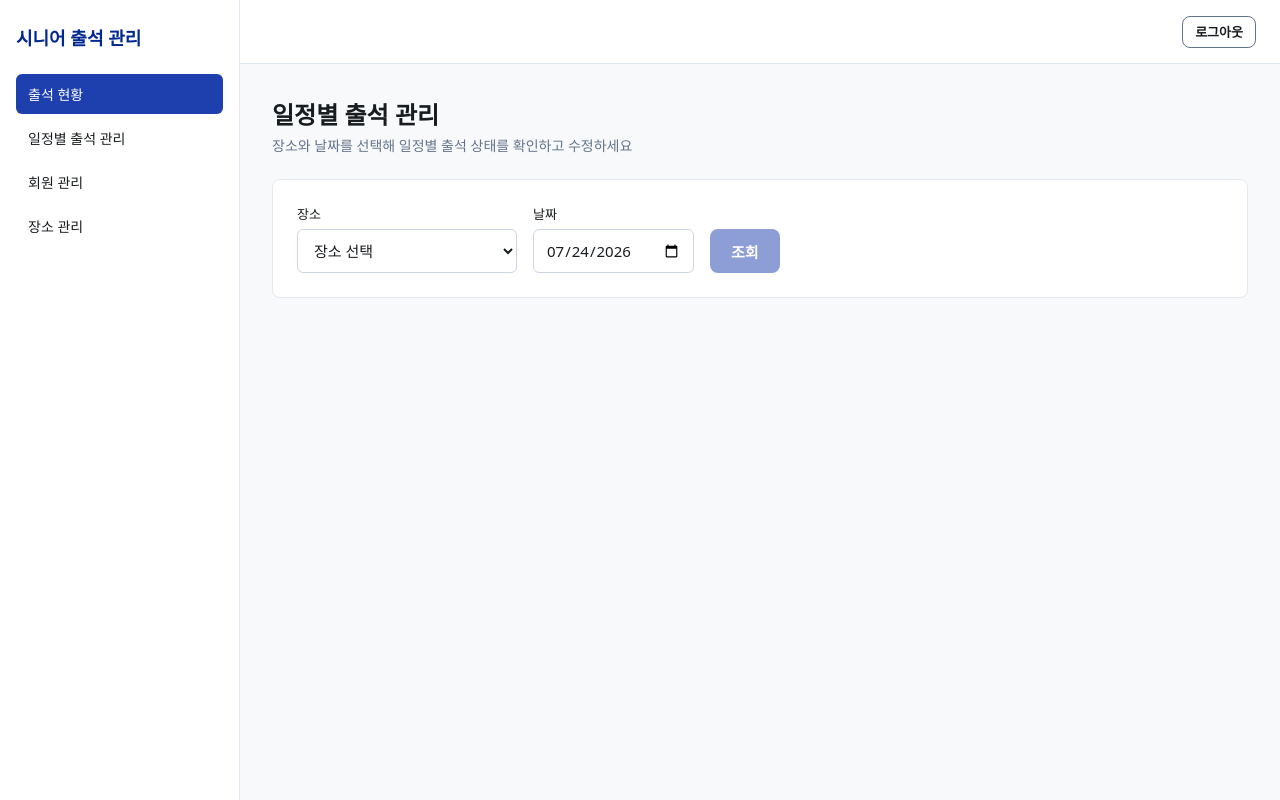
Test: AttendManagementPage › 장소+날짜 조회에 성공하면 출석자 테이블을 렌더링한다
The image size is (1280, 800).
Select "행복경로당" in the dropdown labelled "장소" at (407, 251), box x1=297 y1=229 x2=517 y2=273
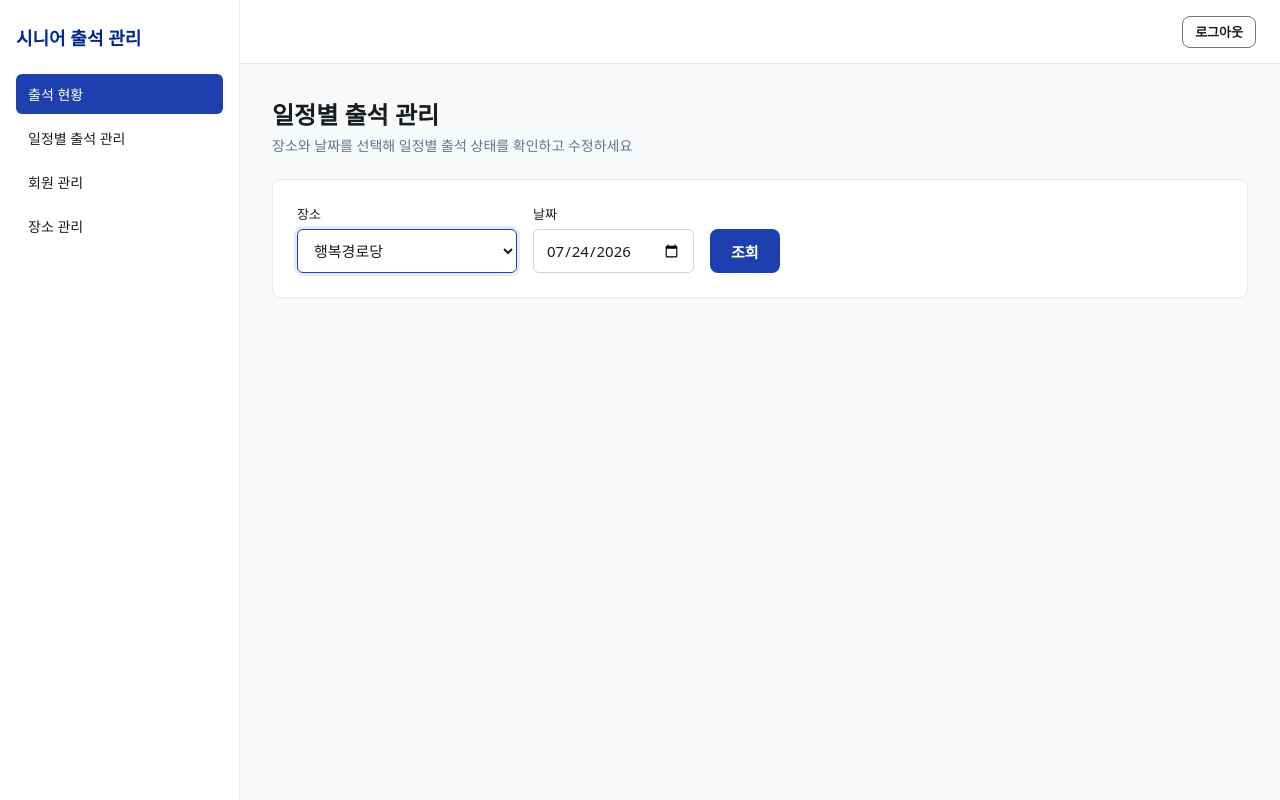
Type "2026-07-20" into the date field labelled "날짜".
click(614, 251); type("2026-07-20")  # box x1=533 y1=229 x2=694 y2=273
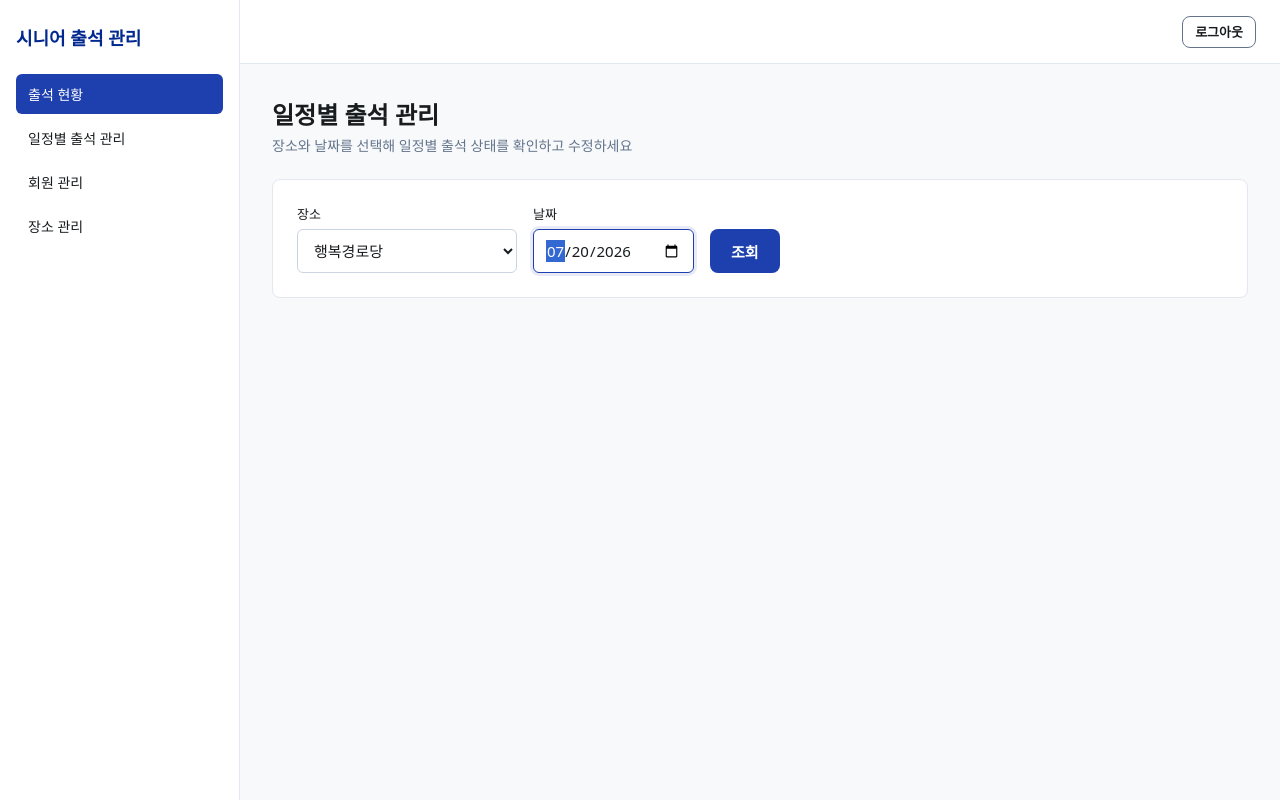
Click the button "조회".
click(745, 251)  # box x1=710 y1=229 x2=780 y2=273
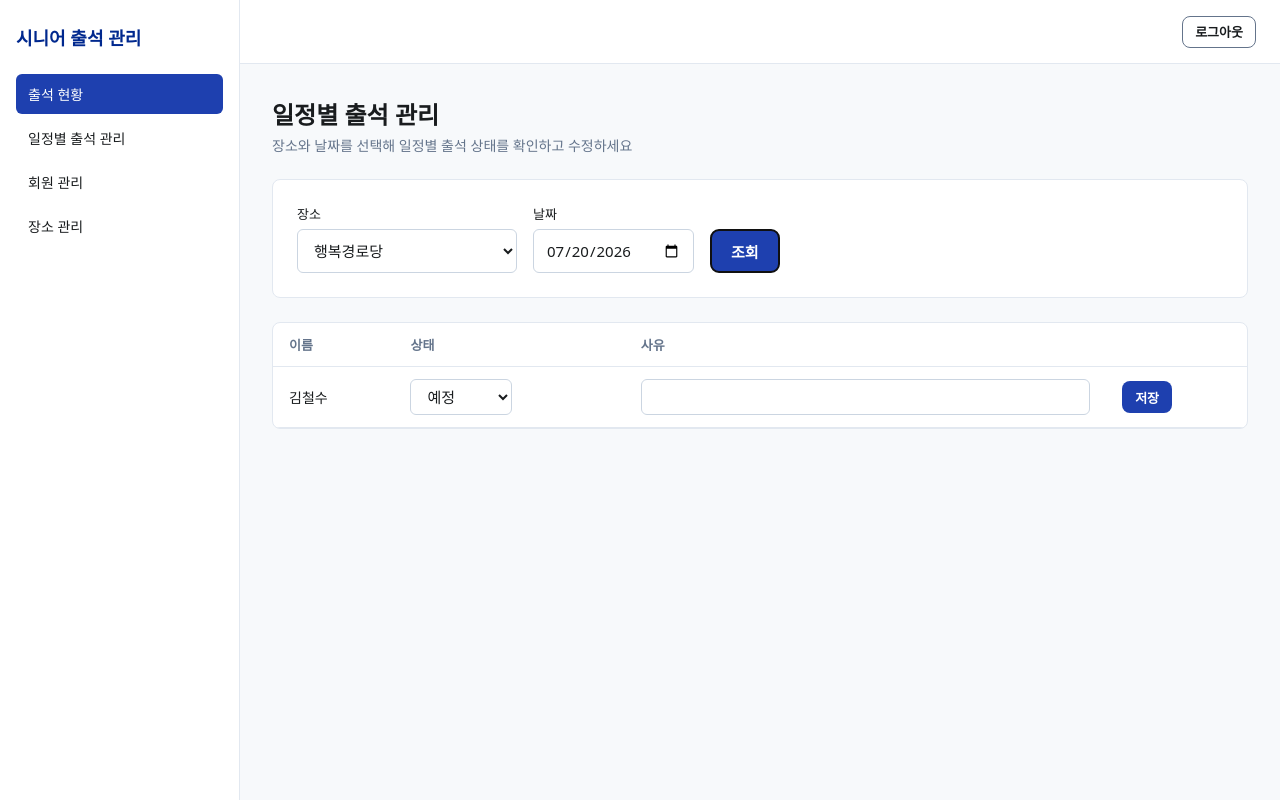
Result: the text "김철수" is shown at x1=273 y1=366 x2=394 y2=428
